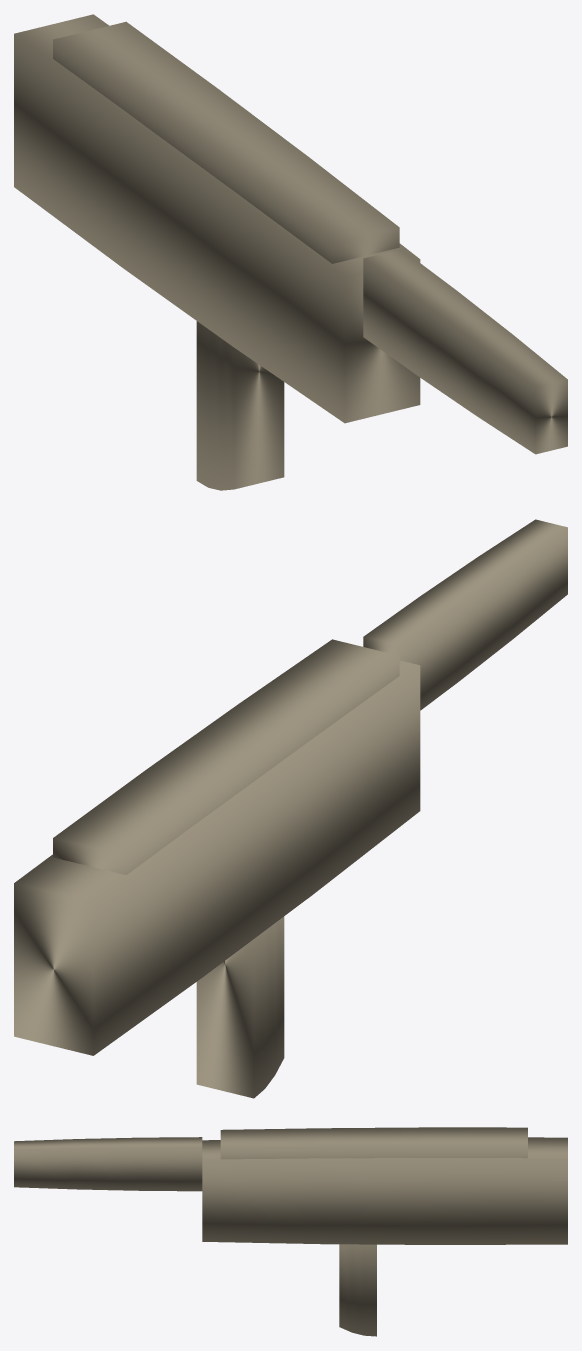
File: wpn_rpg7_launcher.glb
3 renders of one model, top to bottom at view 1: azimuth 30°, elevation 25°; view 2: azimuth 150°, elevation 25°; view 3: azimuth 270°, elevation 25°, orthographic. The views are drawn at different scales.
Parts seen in each view (by area): view 1: SubMesh_0_Receiver, SubMesh_1_Action, SubMesh_3_BarrelSight, SubMesh_2_Magazine; view 2: SubMesh_0_Receiver, SubMesh_1_Action, SubMesh_3_BarrelSight, SubMesh_2_Magazine; view 3: SubMesh_0_Receiver, SubMesh_3_BarrelSight, SubMesh_1_Action, SubMesh_2_Magazine.
Part boxes in pixels (x1,y1,x2,y2): SubMesh_0_Receiver: (14, 14, 420, 423); SubMesh_1_Action: (53, 21, 399, 263); SubMesh_3_BarrelSight: (363, 249, 567, 454); SubMesh_2_Magazine: (196, 321, 284, 490); SubMesh_0_Receiver: (14, 660, 420, 1055); SubMesh_1_Action: (53, 639, 399, 874); SubMesh_3_BarrelSight: (363, 519, 567, 710); SubMesh_2_Magazine: (196, 916, 284, 1098); SubMesh_0_Receiver: (202, 1137, 567, 1244); SubMesh_3_BarrelSight: (14, 1137, 202, 1191); SubMesh_1_Action: (220, 1127, 527, 1159); SubMesh_2_Magazine: (339, 1244, 376, 1336).
Bounding box in the file's own units: 0.0961 × 0.3926 × 1.03.
